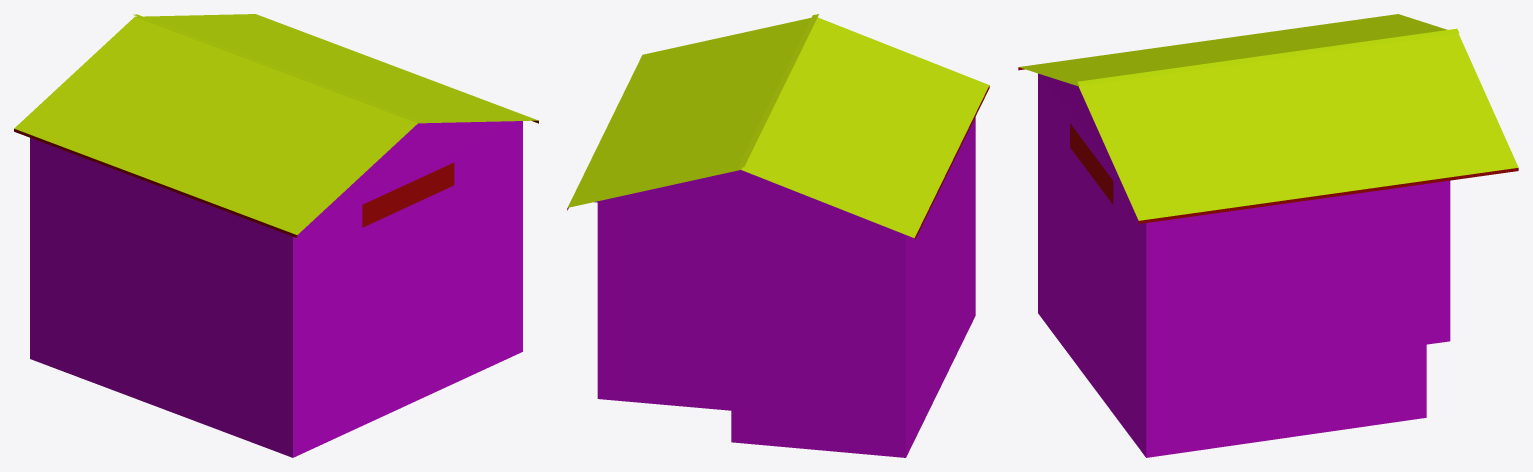
File: sag_24.glb
The picture shows the model from 3 angles, left to right: view 1: azimuth 30°, elevation 25°; view 2: azimuth 150°, elevation 25°; view 3: azimuth 270°, elevation 25°; orthographic projection. The views are drawn at different scales.
Parts seen in each view (by area): view 1: sag_24; view 2: sag_24; view 3: sag_24.
Boxes of the visible parts, x1=… form: sag_24: x1=14, y1=14, x2=538, y2=457; sag_24: x1=567, y1=14, x2=989, y2=457; sag_24: x1=1018, y1=14, x2=1518, y2=457.
Bounding box in the file's own units: 16.43 × 11.27 × 16.79.
